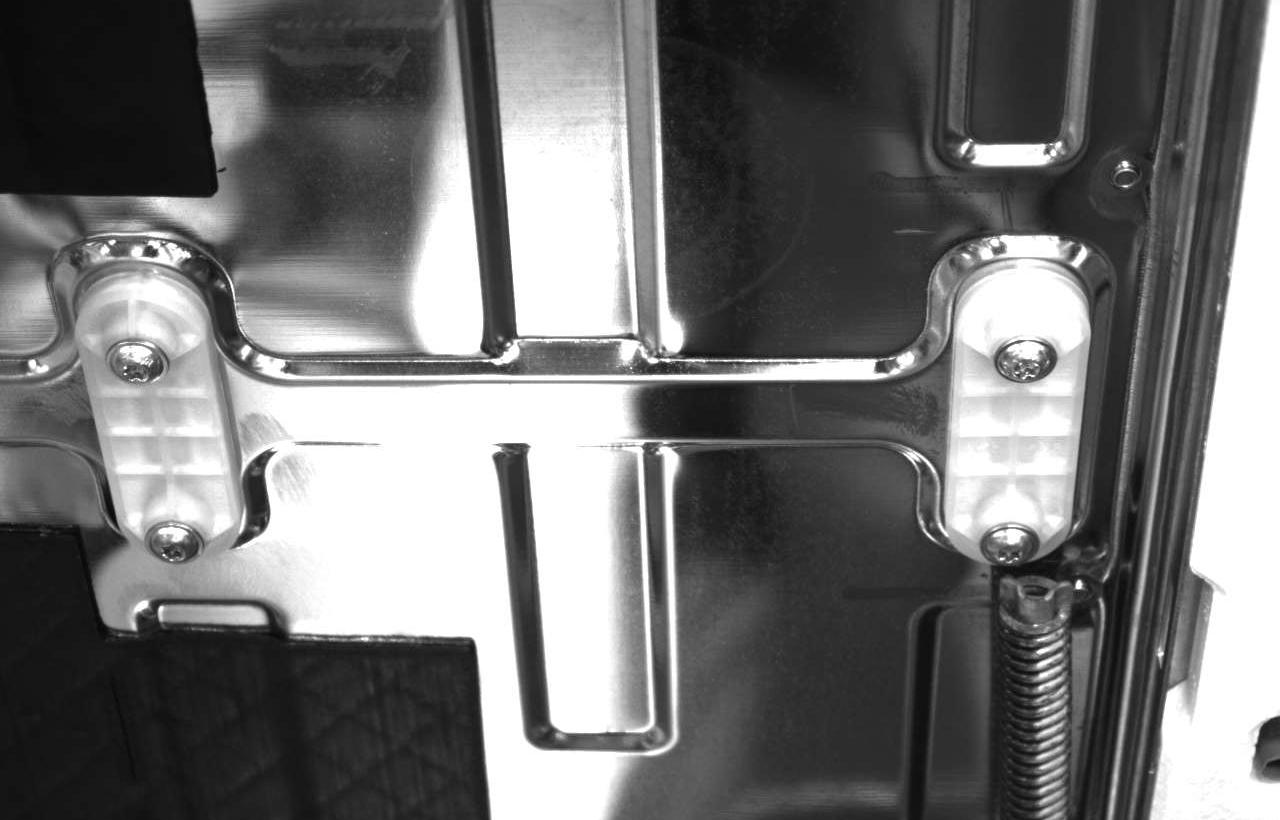vida-ok: (101, 331, 173, 398), (993, 327, 1060, 394), (141, 512, 207, 571), (977, 512, 1043, 571)
